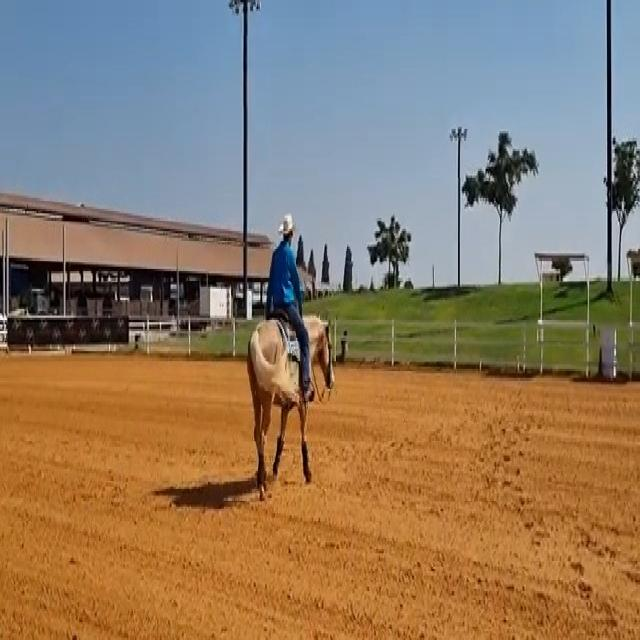horse: (245, 309, 336, 500)
